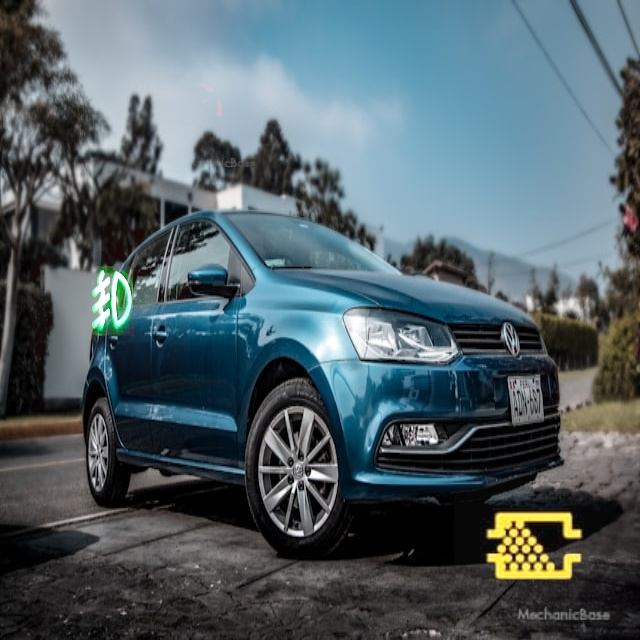symbol: (454, 466, 616, 628), (31, 225, 190, 384), (125, 38, 261, 174)
